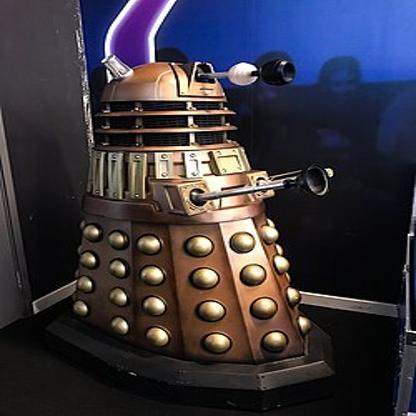dalek: (54, 44, 356, 406)
